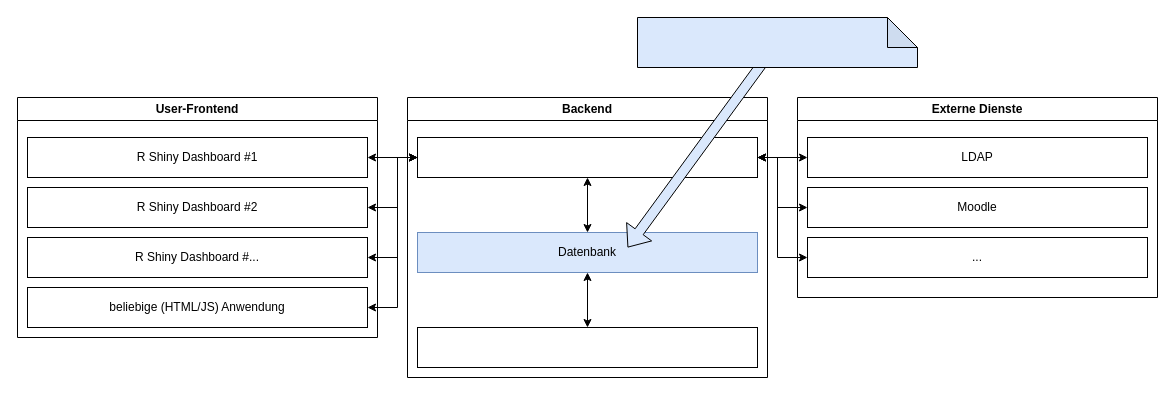
Some shapes in this 1175 by 395 pixel diagram are drawn without their labels. The shapes that lost their labels are listed below. From the top down, each one's centre as x and y in pixels, then its label:
At [777,42]: "SQL Datenbank".
At [587,157]: "Web API".
At [587,347]: "Admin-Interface".
